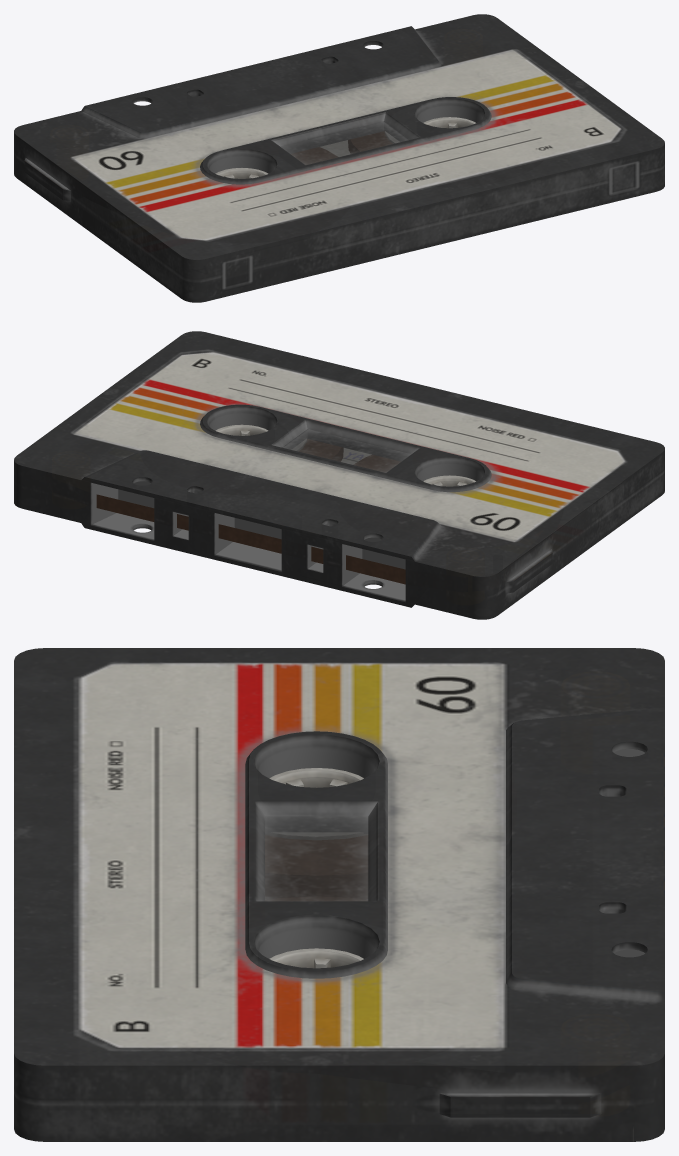
File: tape_2.glb
3 views of the same model, one above another, from view 1: azimuth 30°, elevation 25°; view 2: azimuth 150°, elevation 25°; view 3: azimuth 270°, elevation 25° (orthographic). The views are drawn at different scales.
Visible parts, largest first — view 1: CassetteTape_Main_low_02_2_CassetteTape_02a_0; view 2: CassetteTape_Main_low_02_2_CassetteTape_02a_0; view 3: CassetteTape_Main_low_02_2_CassetteTape_02a_0.
Boxes of the visible parts, x1,y1,x2,y2 form: CassetteTape_Main_low_02_2_CassetteTape_02a_0: (14,14,664,302); CassetteTape_Main_low_02_2_CassetteTape_02a_0: (14,331,664,619); CassetteTape_Main_low_02_2_CassetteTape_02a_0: (14,648,664,1141).
Size of the model in its own units: 0.1017 by 0.0102 by 0.0659.
1 material, 1 textured.
